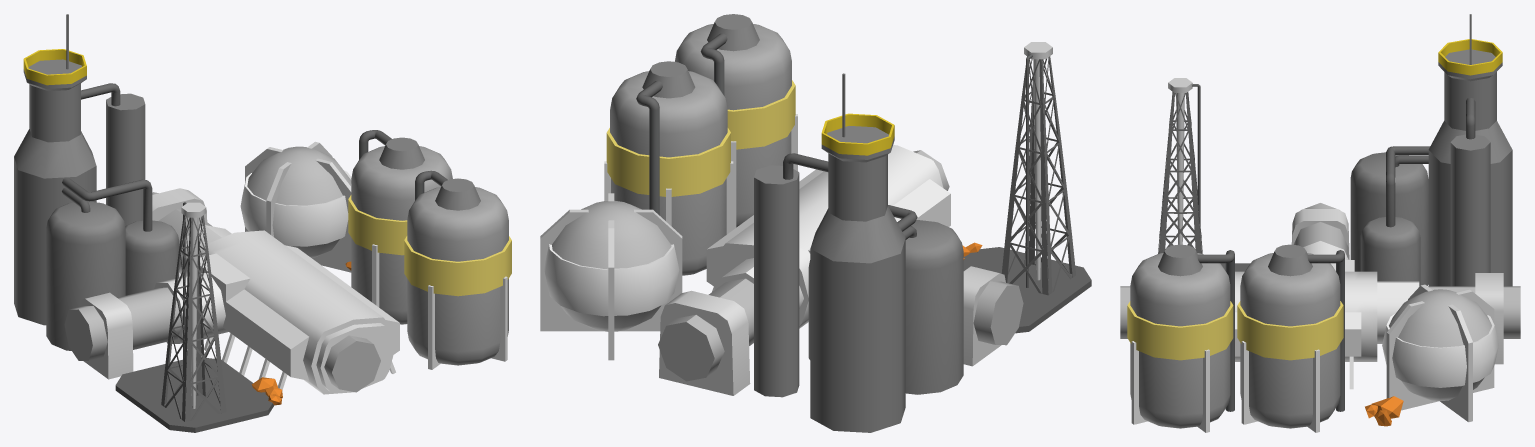
The model's file is ISRU.glb.
3 renders of one model, left to right at view 1: azimuth 30°, elevation 25°; view 2: azimuth 150°, elevation 25°; view 3: azimuth 270°, elevation 25°, orthographic. The views are drawn at different scales.
Parts seen in each view (by area): view 1: Cylinder.016, Cylinder.015, Cylinder.011, Sphere.001, Cylinder.012, Tunnel.007, Plane.014, Cube.032, Cube.010, Cylinder.017, Cube.021, Cylinder.013 (+3 smaller); view 2: Cylinder.016, Cylinder.012, Sphere.001, Cylinder.011, Cylinder.015, Tunnel.007, Plane.014, Cube.010, Cube.032, Cylinder.024, Cylinder.013, Cube.021 (+2 smaller); view 3: Cylinder.016, Cylinder.012, Cylinder.011, Sphere.001, Tunnel.007, Cylinder.015, Plane.014, Cube.021, Cube.010, Cylinder.024, Cylinder.017, Cylinder.013 (+2 smaller).
Boxes of the visible parts, x1,y1,x2,y2 form: Cylinder.016: (14,14,179,350); Cylinder.015: (200,230,399,394); Cylinder.011: (404,178,511,365); Sphere.001: (240,141,351,272); Cylinder.012: (348,137,452,324); Tunnel.007: (64,192,380,392); Plane.014: (161,215,226,421); Cube.032: (115,357,274,432); Cube.010: (79,188,207,379); Cylinder.017: (62,83,152,231); Cube.021: (372,244,507,369); Cylinder.013: (181,202,206,408); Cylinder.016: (754,73,963,432); Cylinder.012: (606,61,730,275); Sphere.001: (540,193,682,360); Cylinder.011: (674,14,795,227); Cylinder.015: (706,145,950,328); Tunnel.007: (658,150,1023,381); Plane.014: (1001,56,1075,295); Cube.010: (659,266,1005,395); Cube.032: (963,247,1091,333); Cylinder.024: (636,33,727,215); Cylinder.013: (1024,42,1052,280); Cube.021: (604,114,797,234); Cylinder.016: (1350,14,1512,286); Cylinder.012: (1237,244,1343,428); Cylinder.011: (1127,244,1233,428); Sphere.001: (1382,284,1498,422); Tunnel.007: (1120,203,1520,343); Cylinder.015: (1235,260,1377,361); Plane.014: (1158,91,1202,253); Cube.021: (1131,341,1319,432); Cube.010: (1291,209,1503,364); Cylinder.024: (1197,250,1344,411); Cylinder.017: (1386,98,1475,227); Cylinder.013: (1168,78,1192,244).
Size of the model in its own units: 4.03 by 3.19 by 4.
2 materials, 2 textured.
